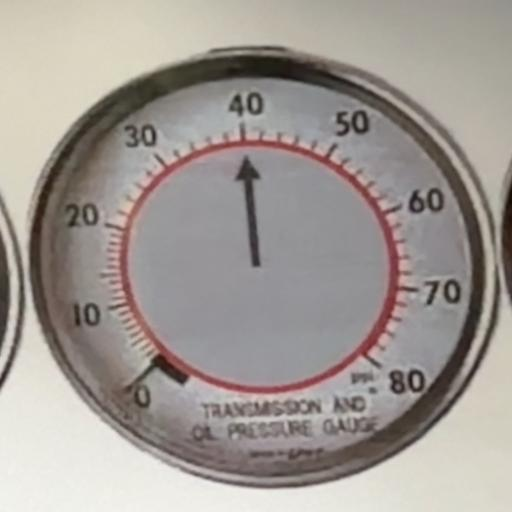needle: (232, 150, 279, 278)
